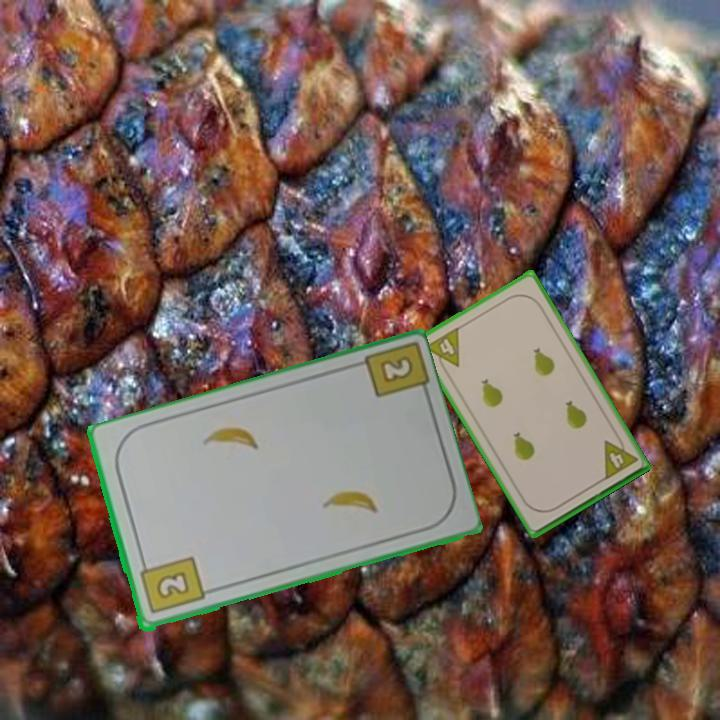2b: (136, 553, 207, 617), (376, 352, 416, 387)
4p: (422, 323, 462, 376), (600, 431, 640, 483)
